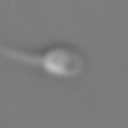normal: (1, 46, 43, 67)
